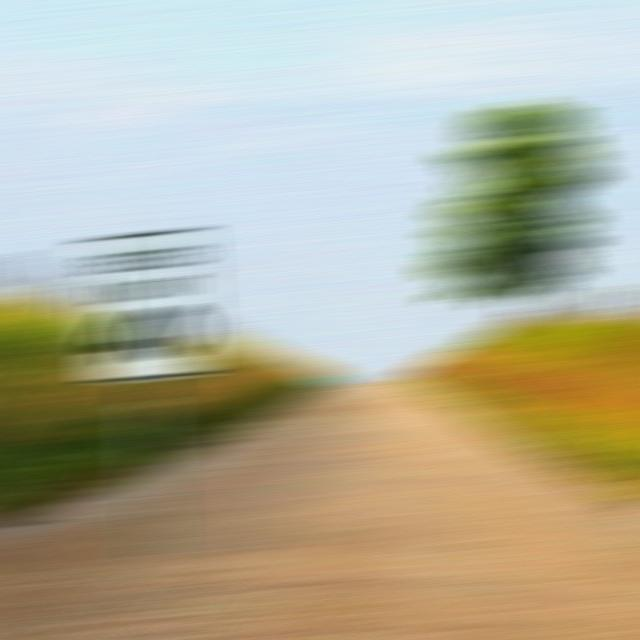speedLimit40: (84, 228, 209, 554)
